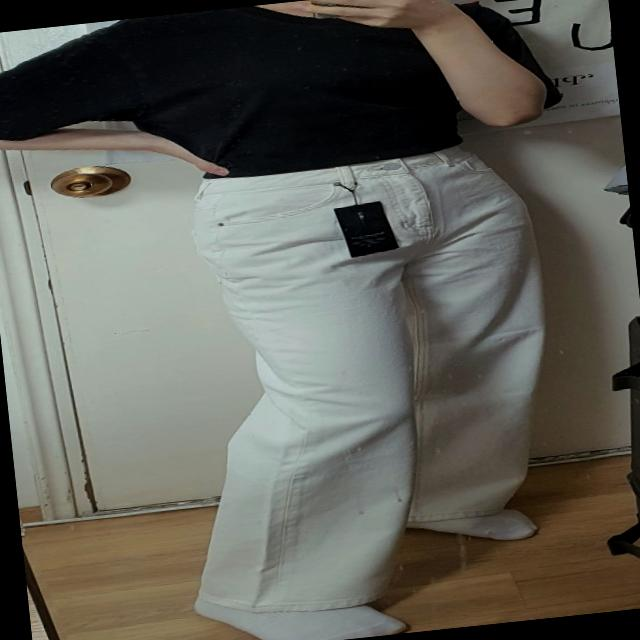cottonpants: (150, 137, 586, 621)
shortsleeve: (0, 0, 556, 206)
